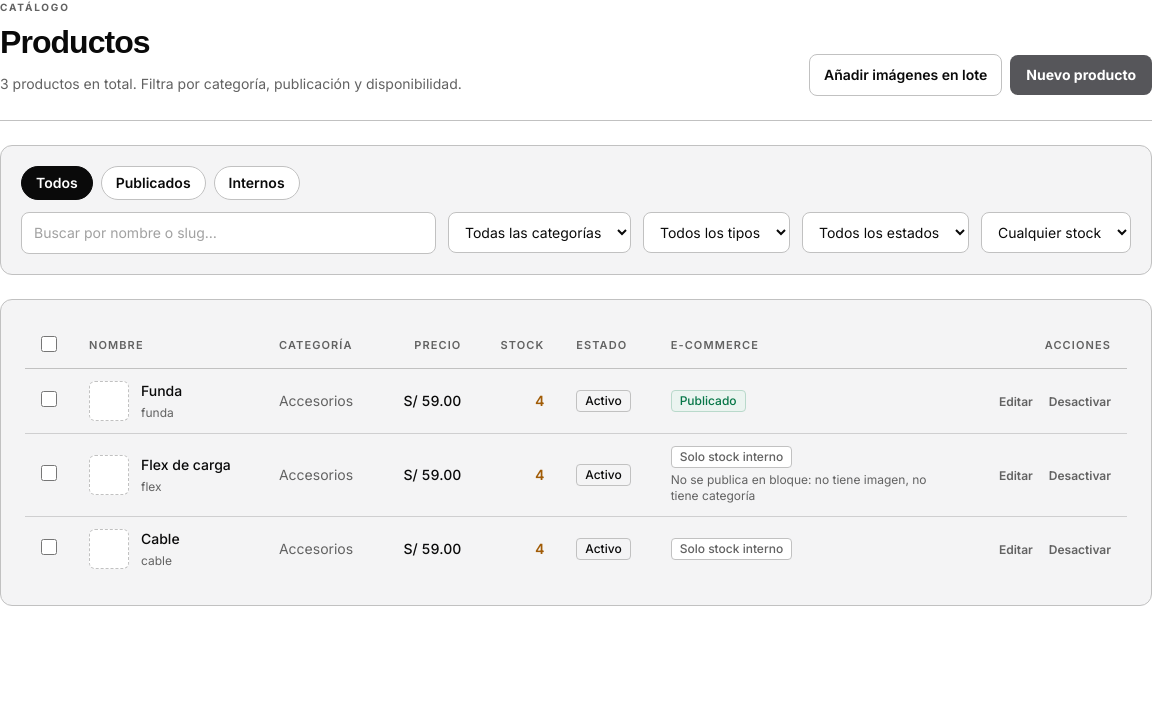
Test case: la confirmación › dice la acción y la cuenta exacta, y sin confirmar no se manda nada
Expected: the link "Funda" is shown, x1=141 y1=382 x2=182 y2=399
Step 1. Click the checkbox named "Seleccionar Flex de carga" → x=49, y=473, box x1=41 y1=465 x2=57 y2=481
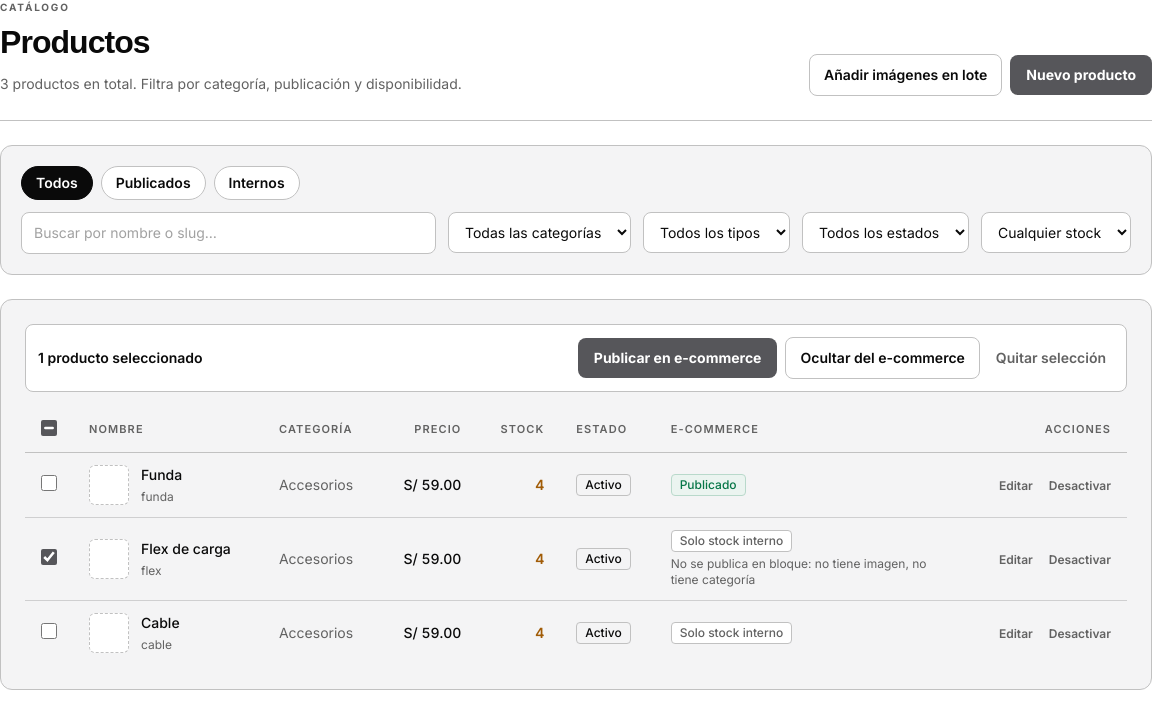
Step 2. Click the checkbox named "Seleccionar Cable" → x=49, y=631, box x1=41 y1=623 x2=57 y2=639
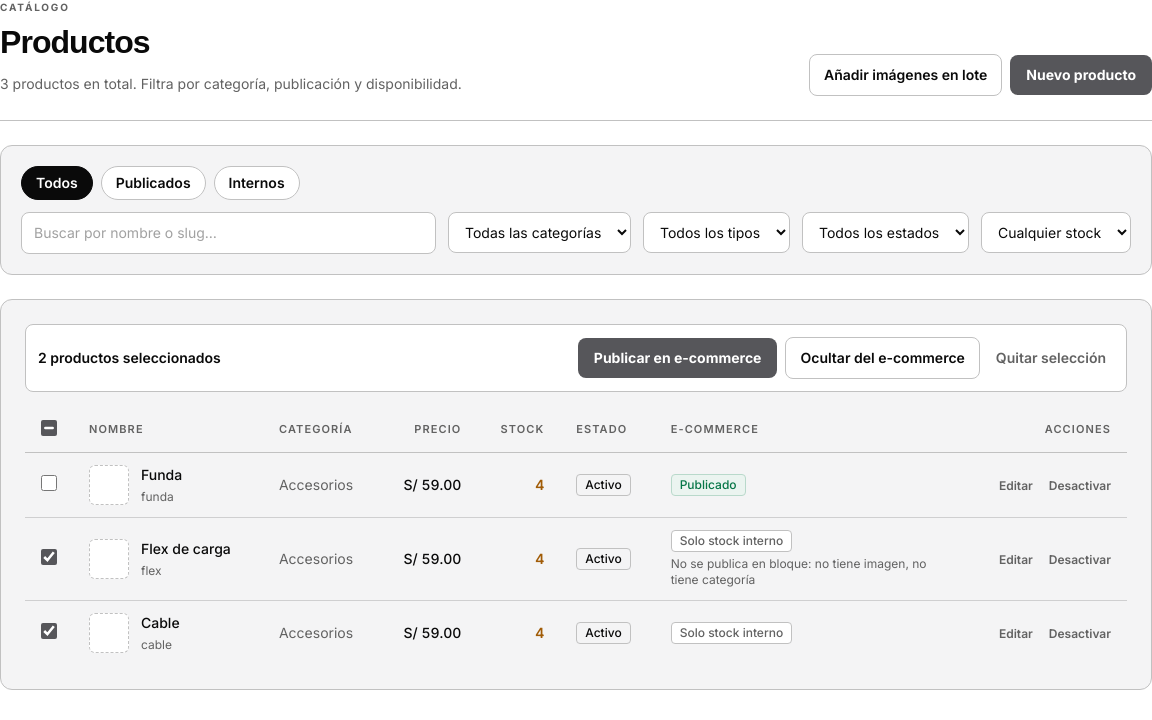
Step 3. Click the button "Publicar en e-commerce" → x=678, y=358, box x1=578 y1=338 x2=777 y2=378
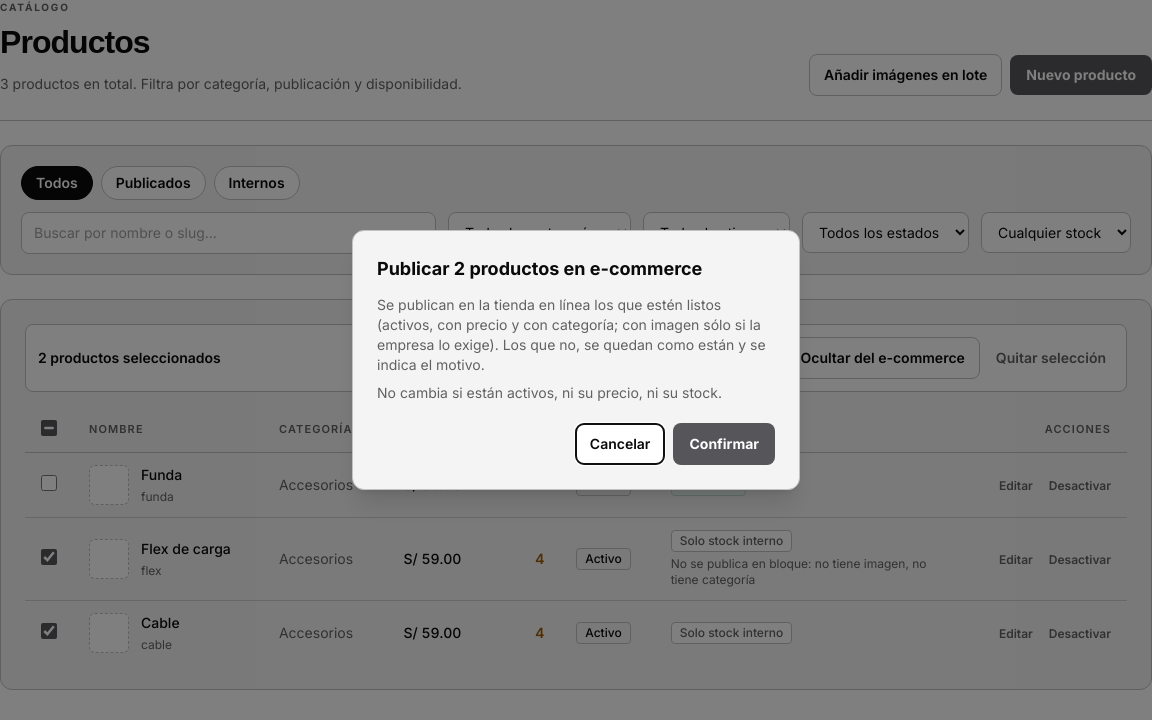
Expected: the text "No cambia si están activos, ni su precio, ni su stock." is shown, x1=377 y1=383 x2=775 y2=403
Expected: the text "activos, con precio y con categoría; con imagen sólo si la empresa lo exige" is shown, x1=377 y1=296 x2=766 y2=373
Step 4. Click the button "Cancelar" → x=620, y=444, box x1=575 y1=423 x2=665 y2=465
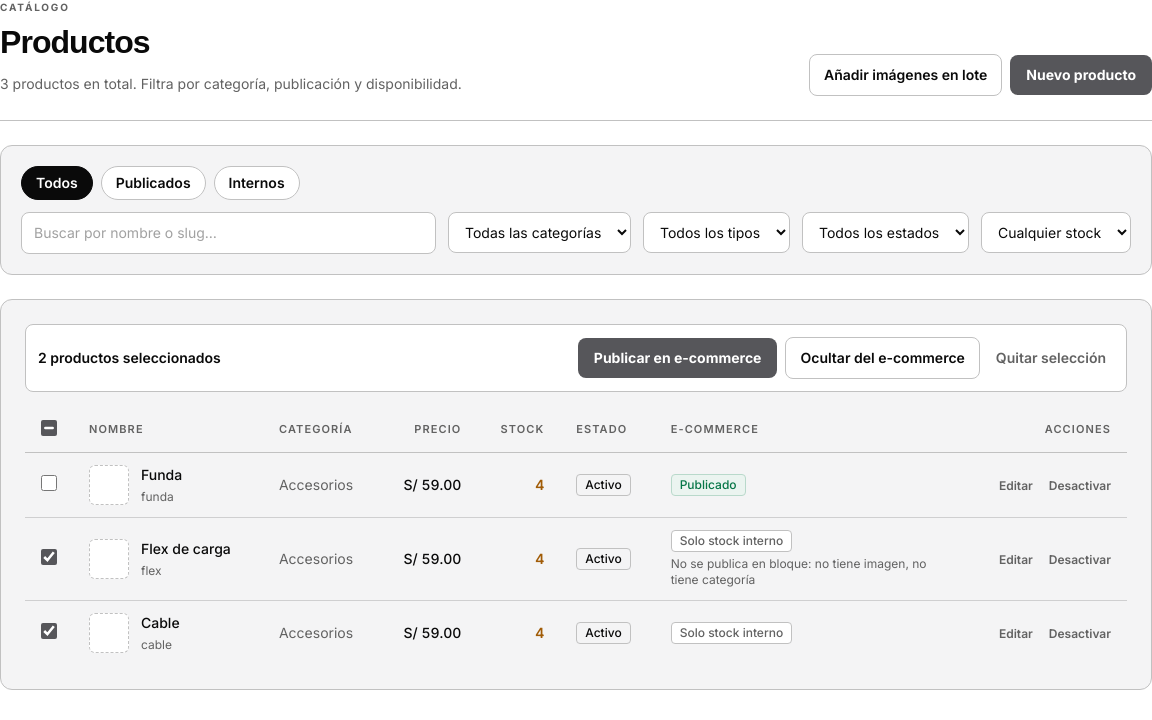
Expected: the text "2 productos seleccionados" is shown, x1=38 y1=348 x2=221 y2=368
Expected: the dialog is gone
